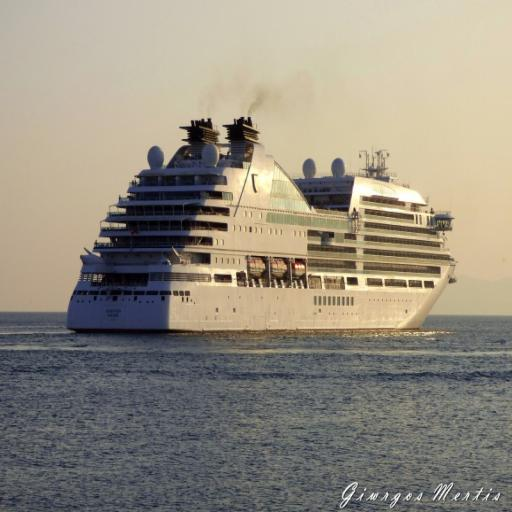cruises: (63, 108, 459, 340)
